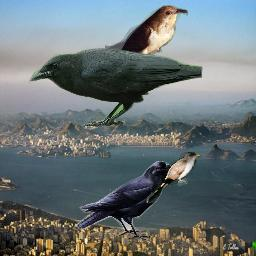Crow: (29, 48, 203, 129), (76, 161, 177, 241)
Cuckoo: (105, 5, 188, 66), (146, 152, 202, 203)
